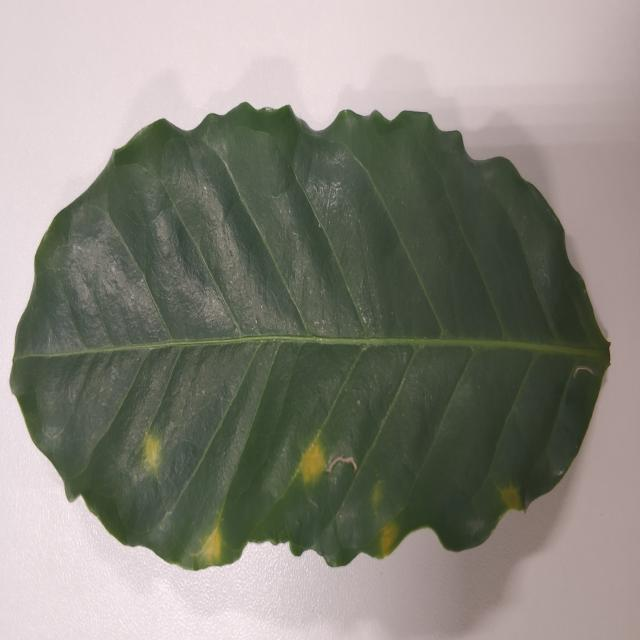Enfermedad-Roya: (9, 103, 613, 573)
